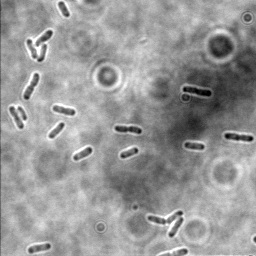Dividing: (147, 210, 184, 226), (21, 71, 40, 101), (7, 105, 24, 131), (222, 132, 254, 144), (181, 86, 213, 98), (112, 124, 144, 136), (51, 103, 76, 117)
Rod: (71, 145, 94, 163), (46, 121, 66, 141), (166, 217, 185, 238), (34, 28, 55, 47), (24, 37, 39, 61), (118, 145, 140, 161), (181, 140, 207, 153), (27, 242, 52, 255), (56, 0, 71, 19), (15, 105, 29, 122), (37, 43, 48, 63)
